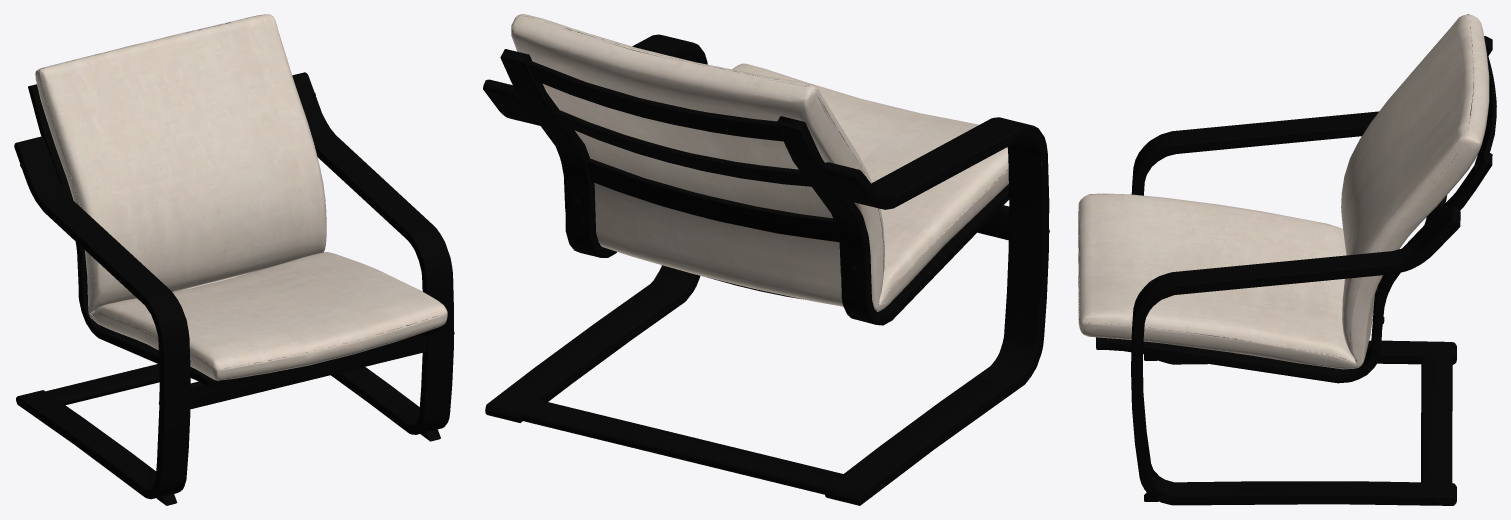
3 renders of one model, left to right at view 1: azimuth 30°, elevation 25°; view 2: azimuth 150°, elevation 25°; view 3: azimuth 270°, elevation 25°, orthographic. The views are drawn at different scales.
Visible parts, largest first — view 1: Mesh_0, Mesh_1; view 2: Mesh_0; view 3: Mesh_0.
Part boxes in pixels (x1,y1,x2,y2): Mesh_0: (14,14,454,505); Mesh_1: (40,14,445,369); Mesh_0: (483,14,1049,505); Mesh_0: (1078,14,1496,505).
Size of the model in its own units: 0.6634 by 0.7005 by 0.7494.
2 materials, 2 textured.
